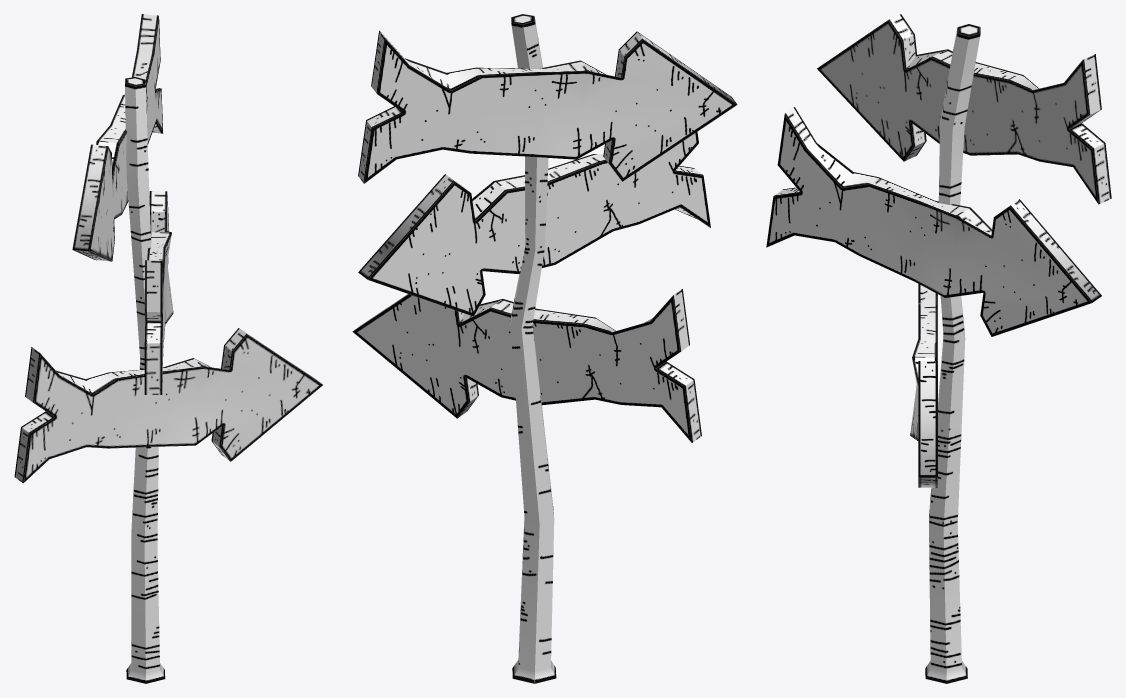
Rendered from Post Arrows.fbx.
3 renders of one model, left to right at view 1: azimuth 30°, elevation 25°; view 2: azimuth 150°, elevation 25°; view 3: azimuth 270°, elevation 25°, orthographic. The views are drawn at different scales.
Visible parts, largest first — view 1: Arrow, Pole, Arrow3, Arrow2; view 2: Arrow3, Arrow, Arrow2, Pole; view 3: Arrow2, Arrow3, Pole, Arrow.
Part boxes in pixels (x1=…): Arrow: x1=14, y1=328, x2=322, y2=483; Pole: x1=125, y1=77, x2=165, y2=683; Arrow3: x1=72, y1=14, x2=163, y2=261; Arrow2: x1=144, y1=191, x2=173, y2=394; Arrow3: x1=358, y1=30, x2=737, y2=183; Arrow: x1=352, y1=289, x2=701, y2=442; Arrow2: x1=358, y1=132, x2=710, y2=316; Pole: x1=510, y1=14, x2=556, y2=683; Arrow2: x1=766, y1=107, x2=1101, y2=336; Arrow3: x1=817, y1=14, x2=1111, y2=204; Pole: x1=925, y1=24, x2=980, y2=683; Arrow: x1=910, y1=284, x2=937, y2=487.
Size of the model in its own units: 3.74 by 7.09 by 3.39.
2 materials, 2 textured.
